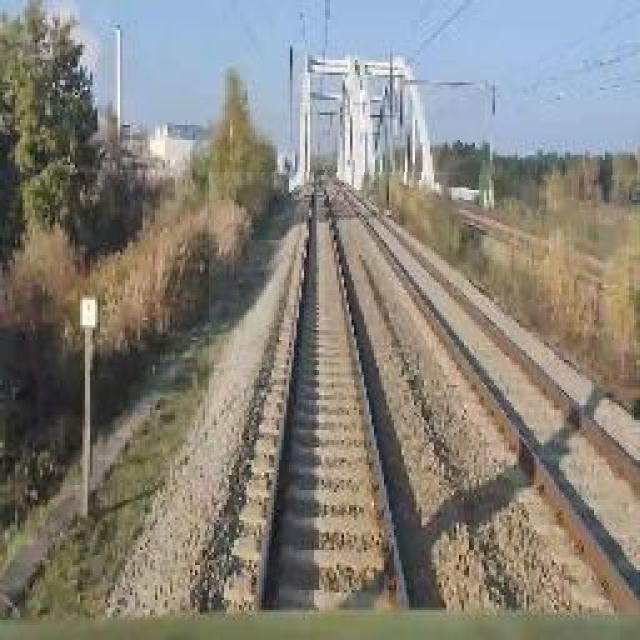rail: (327, 176, 640, 616), (210, 173, 461, 615)
